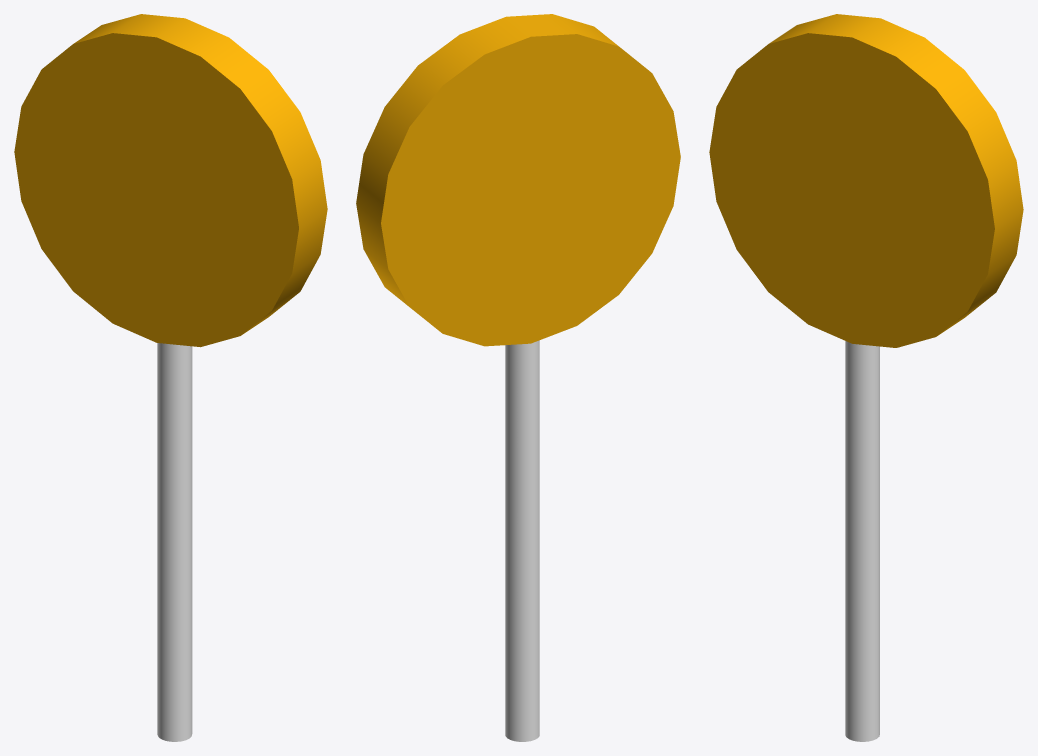
Rendered from LOLLIPOP_ORANGE.fbx.
3 views of the same model, side by side, from view 1: azimuth 90°, elevation 25°; view 2: azimuth 150°, elevation 25°; view 3: azimuth 270°, elevation 25° (orthographic).
Visible parts, largest first — view 1: pCylinder2; view 2: pCylinder2; view 3: pCylinder2.
Boxes of the visible parts, x1,y1,x2,y2 form: pCylinder2: (14, 14, 327, 741); pCylinder2: (356, 14, 680, 741); pCylinder2: (709, 14, 1023, 741).
Bounding box in the file's own units: 0.2105 × 0.727 × 0.2925.
